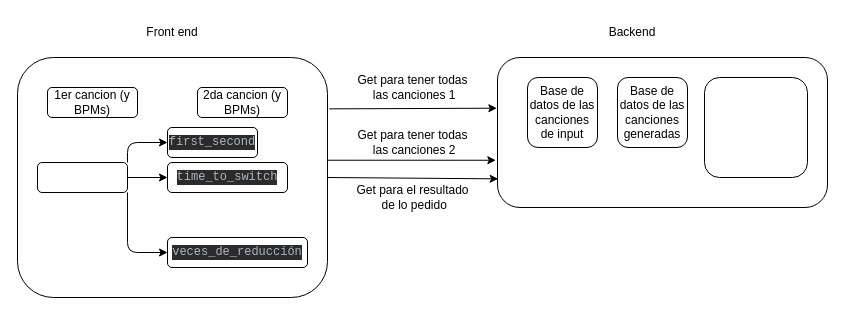
The diagram is 845 pixels wide and 315 high, and some of its shapes have lost their labels. The shapes that lost their labels are listed below. From the top down, each one's box as (x1, y1, x2, y2) in pixels, then its label:
(704, 76, 808, 178): Codigo
(36, 162, 128, 192): Parametros del switcheo
